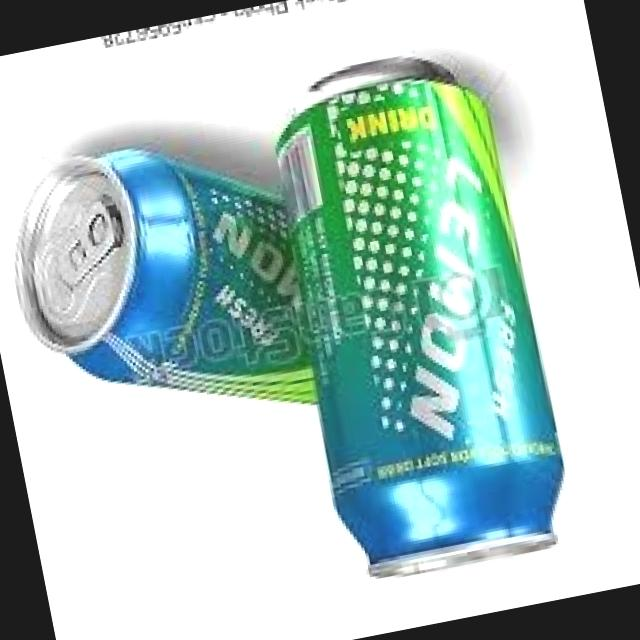kim_loai: (273, 55, 567, 579), (10, 142, 316, 401)
